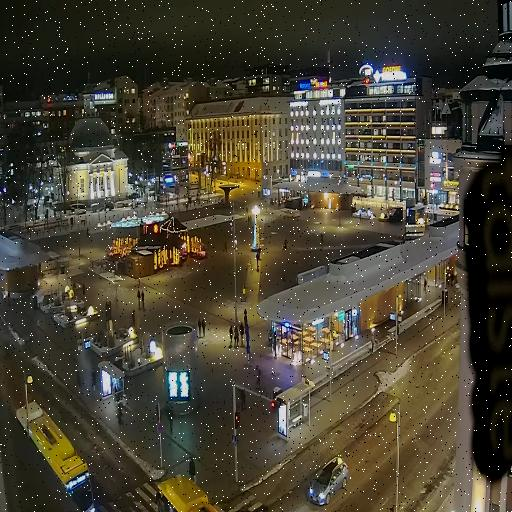Bus: (16, 402, 95, 512), (155, 475, 216, 512)
Car: (307, 457, 349, 506)
